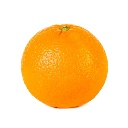orange: (19, 22, 113, 110)
